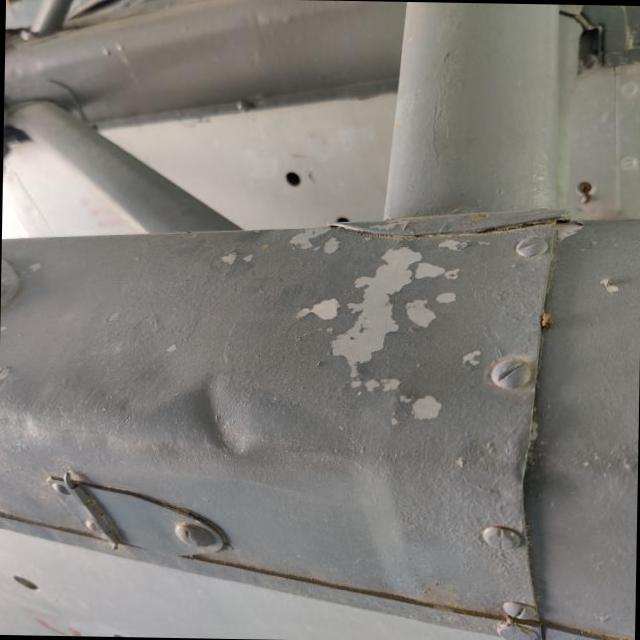Dent: (174, 368, 264, 472)
